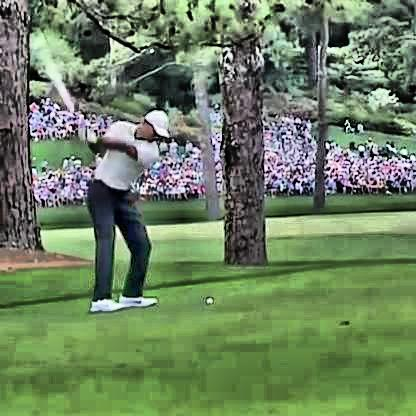golfball: (202, 294, 212, 304)
